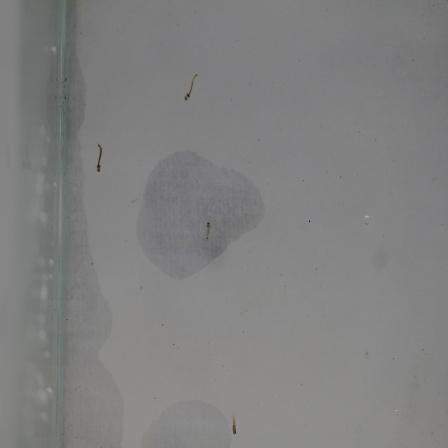Jentik-Nyamuk: (181, 70, 202, 104), (90, 139, 108, 177), (202, 219, 214, 242), (229, 414, 239, 439)
